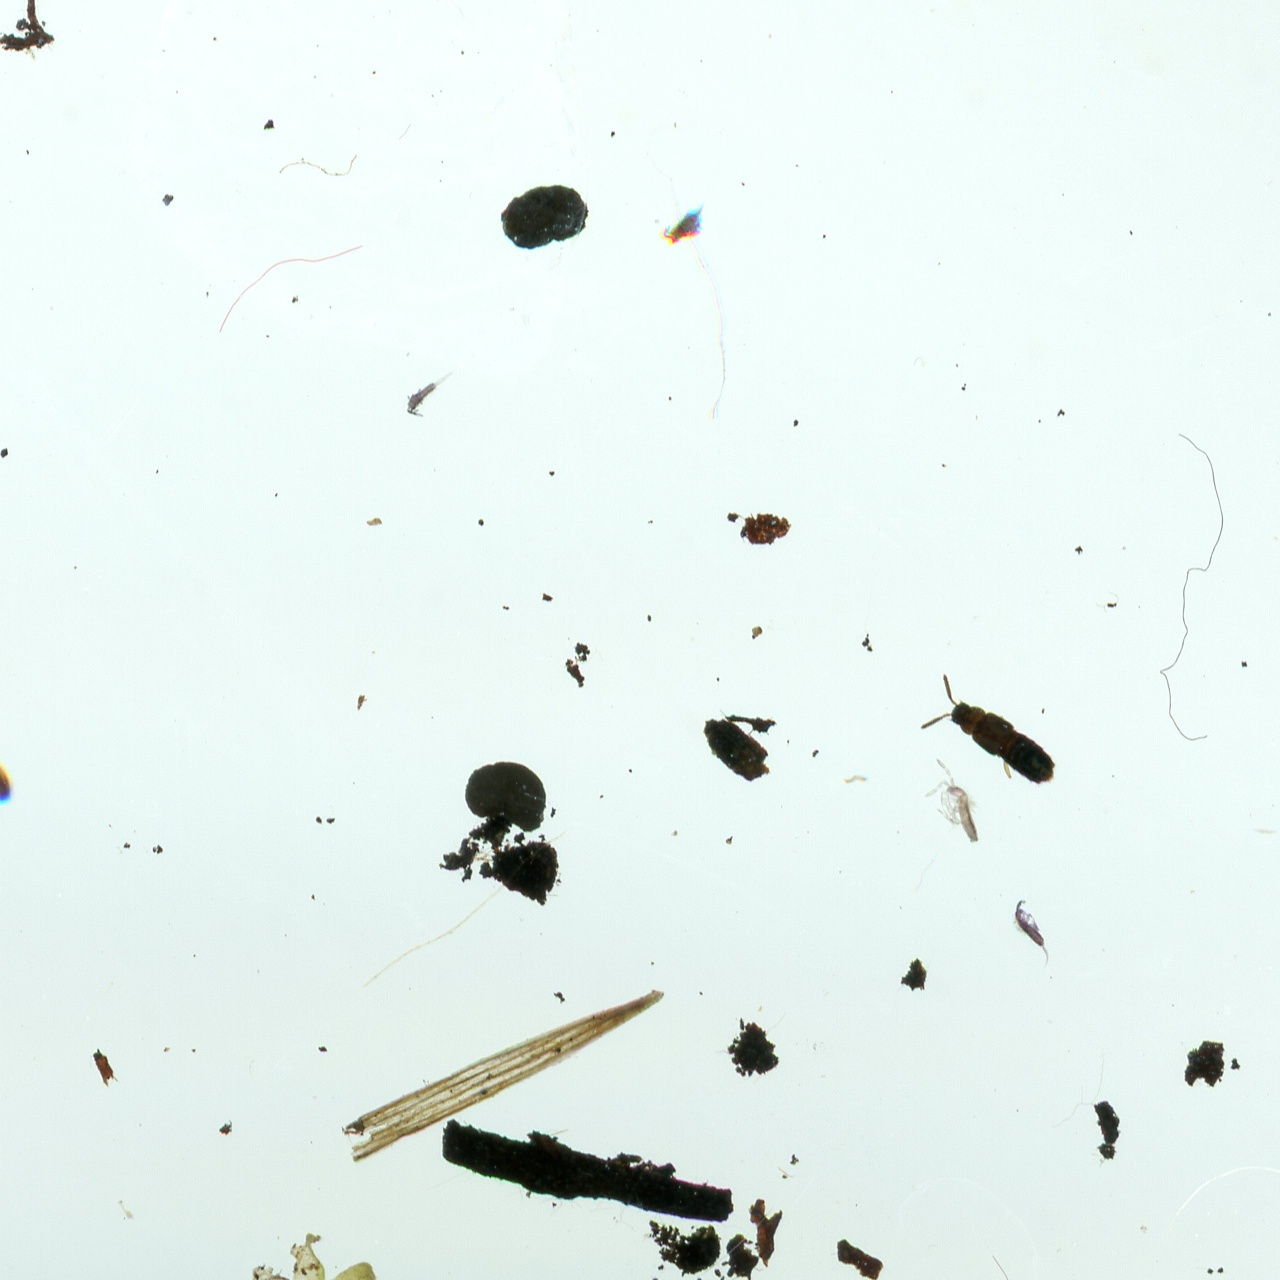arthropod: (918, 665, 1055, 787), (917, 754, 978, 845), (1014, 896, 1050, 965), (663, 204, 704, 247)
